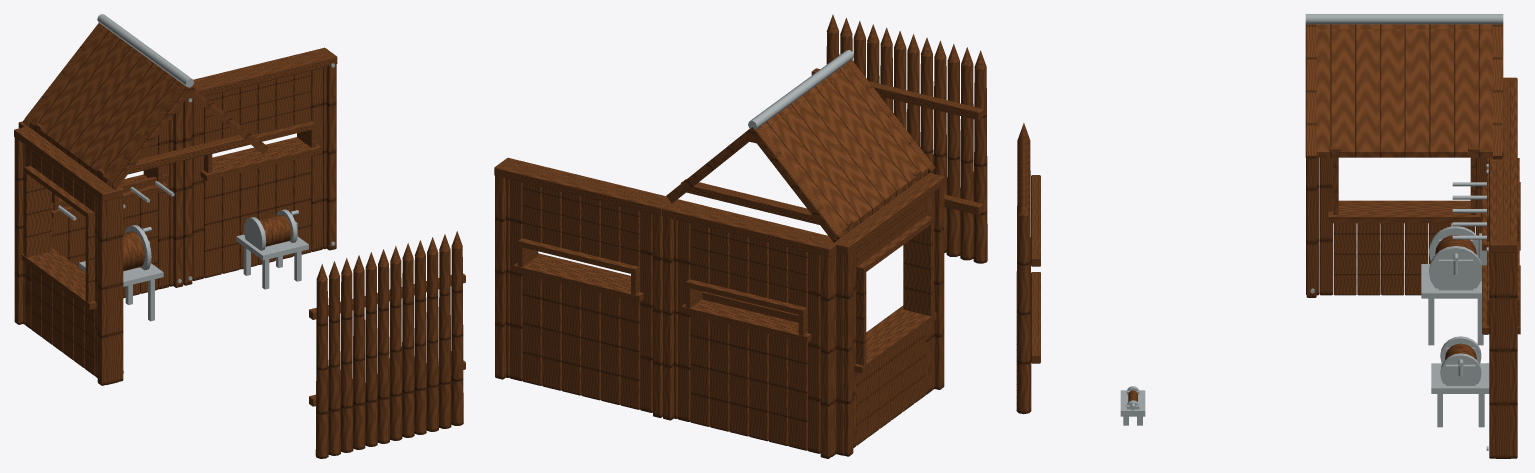
The model's file is fortified-compound-expansion-assembled-s-03a4a3fe-starter-scene__27138.glb.
3 renders of one model, left to right at view 1: azimuth 30°, elevation 25°; view 2: azimuth 150°, elevation 25°; view 3: azimuth 270°, elevation 25°, orthographic. The views are drawn at different scales.
Visible parts, largest first — view 1: 008-palisade-spiked/0, 001-gatehouse-side-wall/0, 002-gatehouse-overlook-wall/0, 003-modular-survival-base-builder--roof-gable-span/0, 000-gatehouse-side-wall/0, 004-barrier-counterweight/0, 005-gate-winch-pedestal/0, 003-modular-survival-base-builder--roof-gable-span/1, 004-barrier-counterweight/1, 005-gate-winch-pedestal/1; view 2: 000-gatehouse-side-wall/0, 001-gatehouse-side-wall/0, 002-gatehouse-overlook-wall/0, 003-modular-survival-base-builder--roof-gable-span/0, 008-palisade-spiked/0, 003-modular-survival-base-builder--roof-gable-span/1, 007-gate-crossbar-rack/0; view 3: 003-modular-survival-base-builder--roof-gable-span/0, 002-gatehouse-overlook-wall/0, 001-gatehouse-side-wall/0, 008-palisade-spiked/0, 005-gate-winch-pedestal/0, 004-barrier-counterweight/0, 003-modular-survival-base-builder--roof-gable-span/1, 000-gatehouse-side-wall/0, 007-gate-crossbar-rack/1, 006-gate-roller-carriage/0.
Part boxes in pixels (x1,y1,x2,y2): 008-palisade-spiked/0: (309,231,465,458); 001-gatehouse-side-wall/0: (183,47,337,285); 002-gatehouse-overlook-wall/0: (14,127,123,385); 003-modular-survival-base-builder--roof-gable-span/0: (22,23,268,190); 000-gatehouse-side-wall/0: (18,103,183,298); 004-barrier-counterweight/0: (236,209,308,289); 005-gate-winch-pedestal/0: (79,225,163,321); 003-modular-survival-base-builder--roof-gable-span/1: (97,14,193,87); 004-barrier-counterweight/1: (259,214,291,246); 005-gate-winch-pedestal/1: (123,231,144,271); 000-gatehouse-side-wall/0: (662,199,841,458); 001-gatehouse-side-wall/0: (494,157,670,417); 002-gatehouse-overlook-wall/0: (829,173,944,456); 003-modular-survival-base-builder--roof-gable-span/0: (666,59,935,242); 008-palisade-spiked/0: (811,14,987,263); 003-modular-survival-base-builder--roof-gable-span/1: (748,50,853,129); 007-gate-crossbar-rack/0: (702,291,798,322); 003-modular-survival-base-builder--roof-gable-span/0: (1305,24,1503,159); 002-gatehouse-overlook-wall/0: (1306,157,1488,297); 001-gatehouse-side-wall/0: (1482,161,1520,458); 008-palisade-spiked/0: (1016,123,1040,414); 005-gate-winch-pedestal/0: (1421,226,1488,345); 004-barrier-counterweight/0: (1431,336,1489,427); 003-modular-survival-base-builder--roof-gable-span/1: (1305,14,1503,24); 000-gatehouse-side-wall/0: (1482,77,1520,250); 007-gate-crossbar-rack/1: (1452,182,1486,239); 006-gate-roller-carriage/0: (1120,386,1145,425).
Bounding box in the file's own units: 4.17 × 3.57 × 5.1.
Materials: 2 (1 with a texture image).
